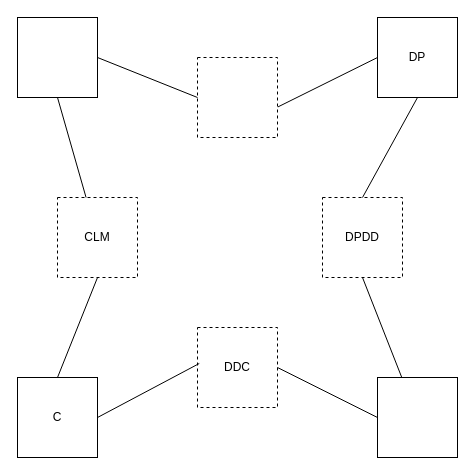
Some shapes in this 475 by 475 pixel diagram are drawn without their labels. The shapes that lost their labels are listed below. From the top down, each one's centre as x and y in pixels, then its label:
At [57,57]: "LM".
At [237,97]: "LMDP".
At [417,417]: "DD".
